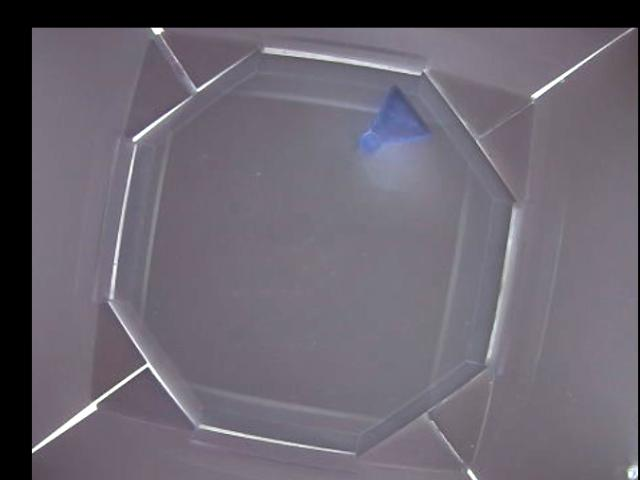Mooli: (358, 86, 430, 153)
